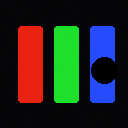2 circle: (91, 57, 117, 83)
